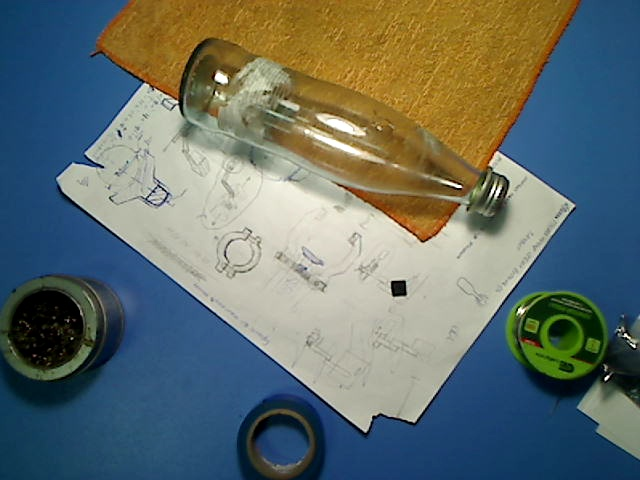bottle: (176, 37, 511, 220)
